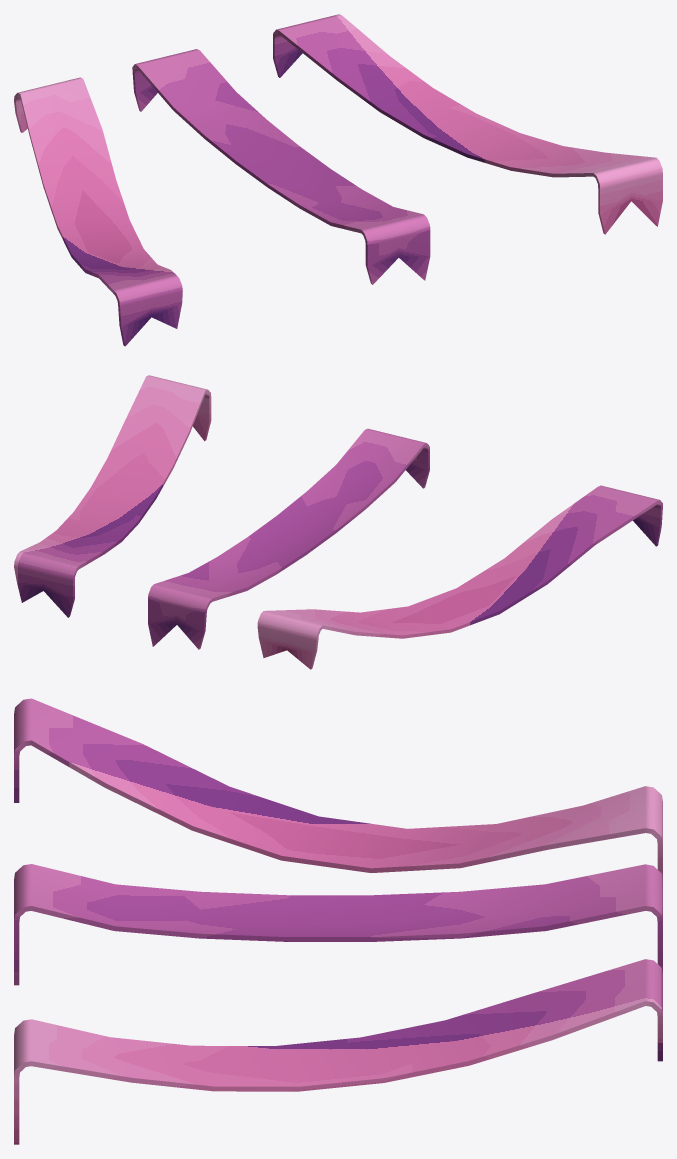
The model's file is SM_clothStrips01.fbx.
The picture shows the model from 3 angles, top to bottom: view 1: azimuth 30°, elevation 25°; view 2: azimuth 150°, elevation 25°; view 3: azimuth 270°, elevation 25°; orthographic projection. The views are drawn at different scales.
Visible parts, largest first — view 1: clothStrip1, clothStrip2, clothStrip3; view 2: clothStrip3, clothStrip2, clothStrip1; view 3: clothStrip3, clothStrip1, clothStrip2.
Boxes of the visible parts, <box> form: clothStrip1: <box>273,14,662,234</box>; clothStrip2: <box>132,49,430,284</box>; clothStrip3: <box>14,77,182,346</box>; clothStrip3: <box>257,485,662,669</box>; clothStrip2: <box>148,428,429,649</box>; clothStrip1: <box>14,375,211,617</box>; clothStrip3: <box>14,698,662,879</box>; clothStrip1: <box>14,959,662,1144</box>; clothStrip2: <box>14,864,662,985</box>.
Size of the model in its own units: 861 by 95.97 by 651.
1 material, 1 textured.
